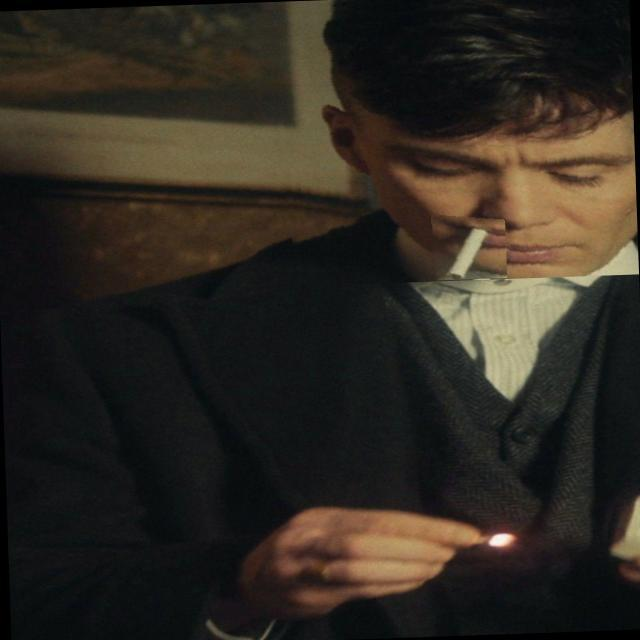cigarette: (431, 212, 506, 280)
